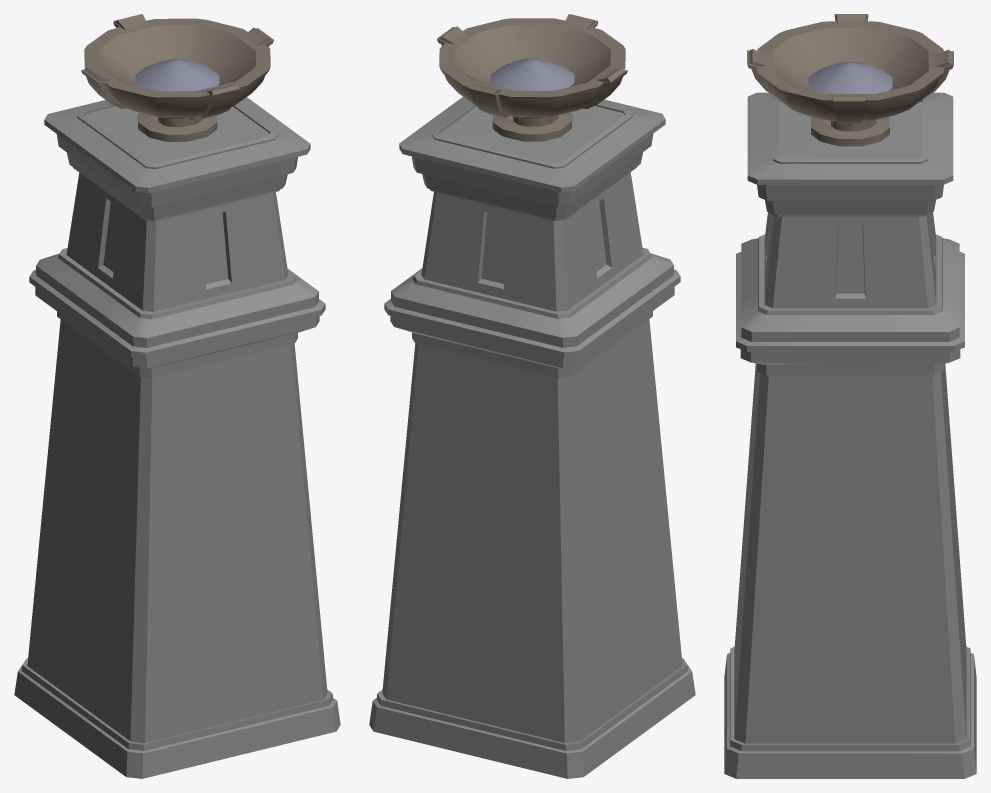
File: Brazier.fbx
3 renders of one model, left to right at view 1: azimuth 30°, elevation 25°; view 2: azimuth 150°, elevation 25°; view 3: azimuth 270°, elevation 25°, orthographic.
Parts seen in each view (by area): view 1: brazier; view 2: brazier; view 3: brazier.
Boxes of the visible parts, left/top/right/bottom form: brazier: left=14, top=14, right=340, bottom=778; brazier: left=369, top=14, right=695, bottom=778; brazier: left=724, top=14, right=976, bottom=778.
Bounding box in the file's own units: 107 × 313 × 107.
